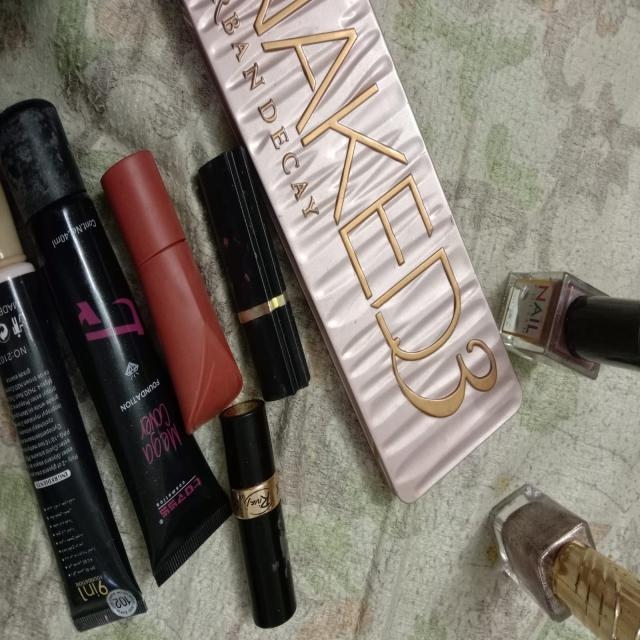lip stick: (92, 141, 259, 418), (175, 141, 337, 401), (207, 399, 308, 640)
nail polish: (484, 448, 639, 640), (500, 258, 640, 383)
